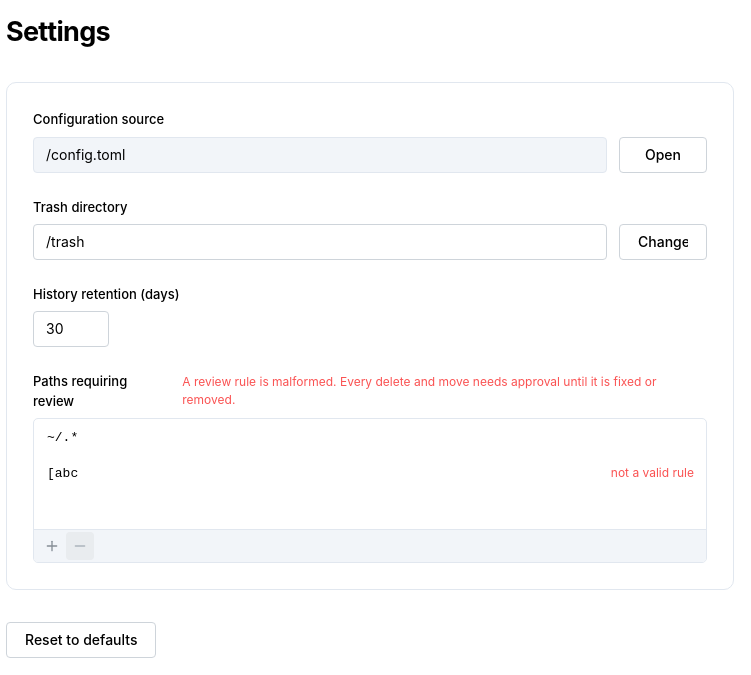
Test: Settings editing › flags a malformed review rule loaded from configuration
The image size is (751, 675).
Check: the text "not a valid rule" is shown, box [611,464,694,482]
Check: the text "A review rule is malformed. Every delete and move needs approval until it is fixed or removed." is shown, box [182,374,656,408]
Focus the field named "Review rule 2" at [316, 473], box [34,455,599,491]
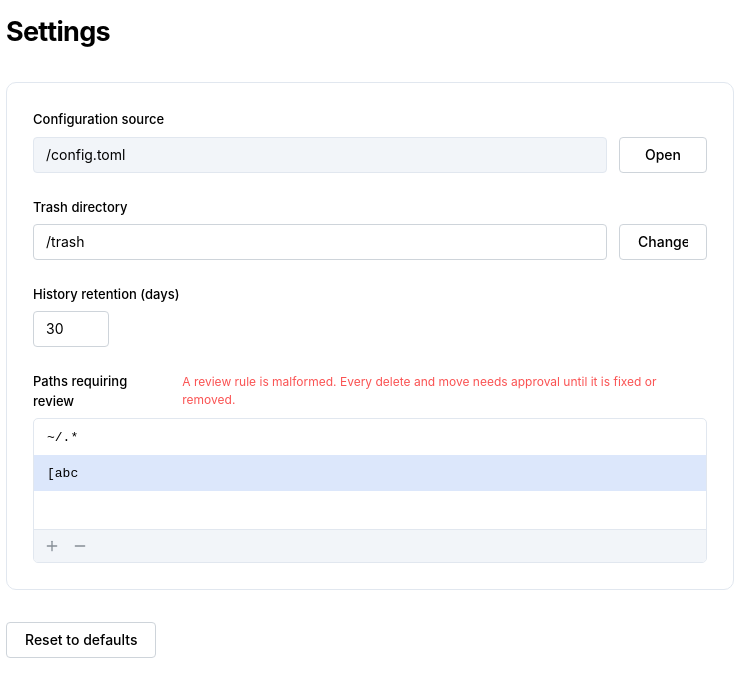
Replace the text in the field named "Review rule 2" with "[abc]" at [358, 473], box [34,455,682,491]
Wait 250 ms
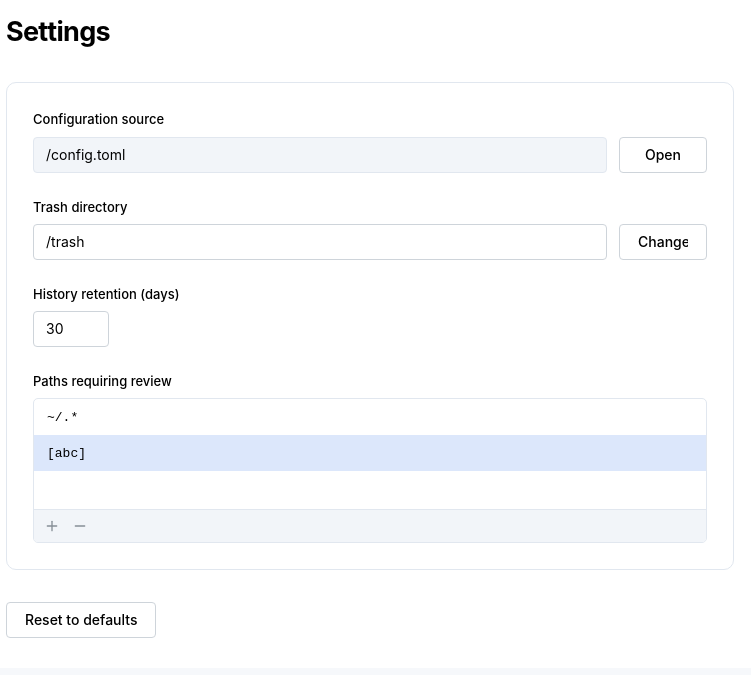
Check: the text "A review rule is malformed. Every delete and move needs approval until it is fixed or removed." is gone
